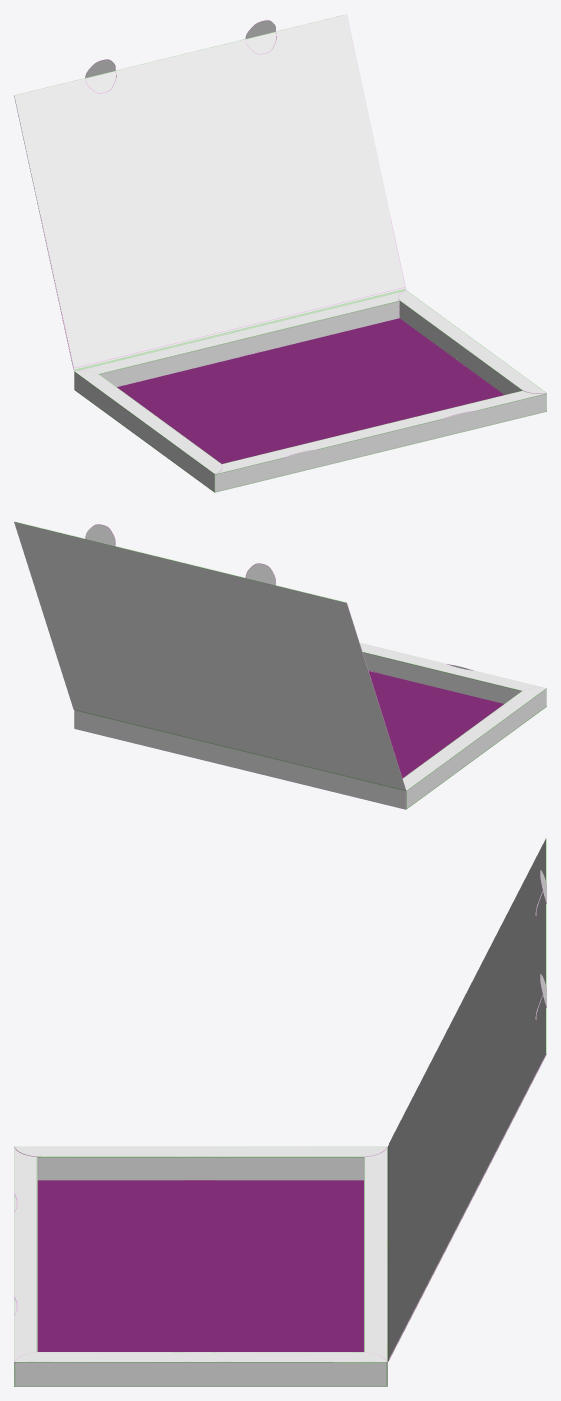
3 views of the same model, one above another, from view 1: azimuth 30°, elevation 25°; view 2: azimuth 150°, elevation 25°; view 3: azimuth 270°, elevation 25° (orthographic). The views are drawn at different scales.
Bounding box in the file's own units: 332 × 255 × 347.
Materials: 3 (3 with a texture image).
